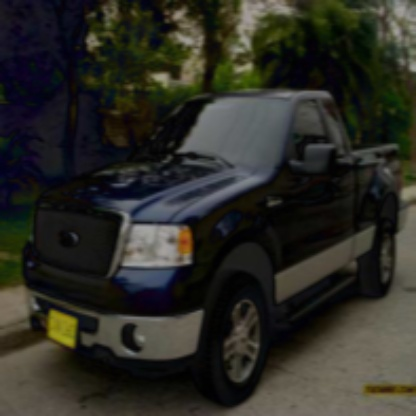Vehicle: (21, 88, 409, 409)
